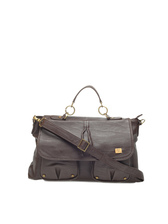bag: (22, 83, 151, 186)
